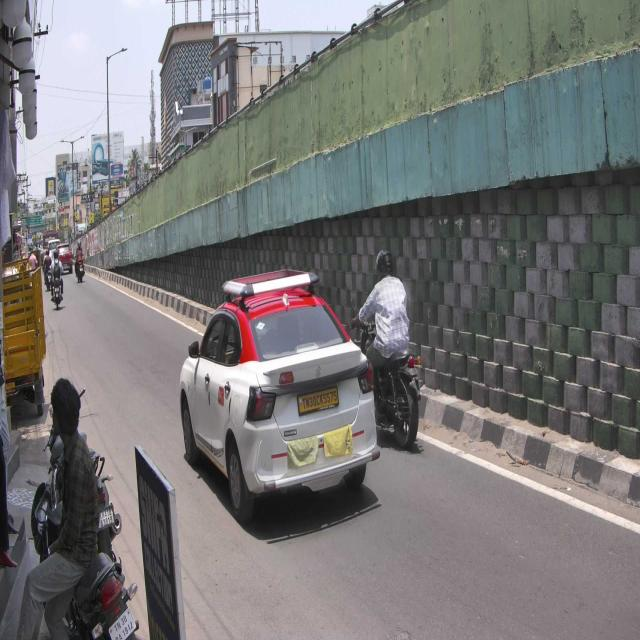single_rider: (348, 243, 424, 459)
